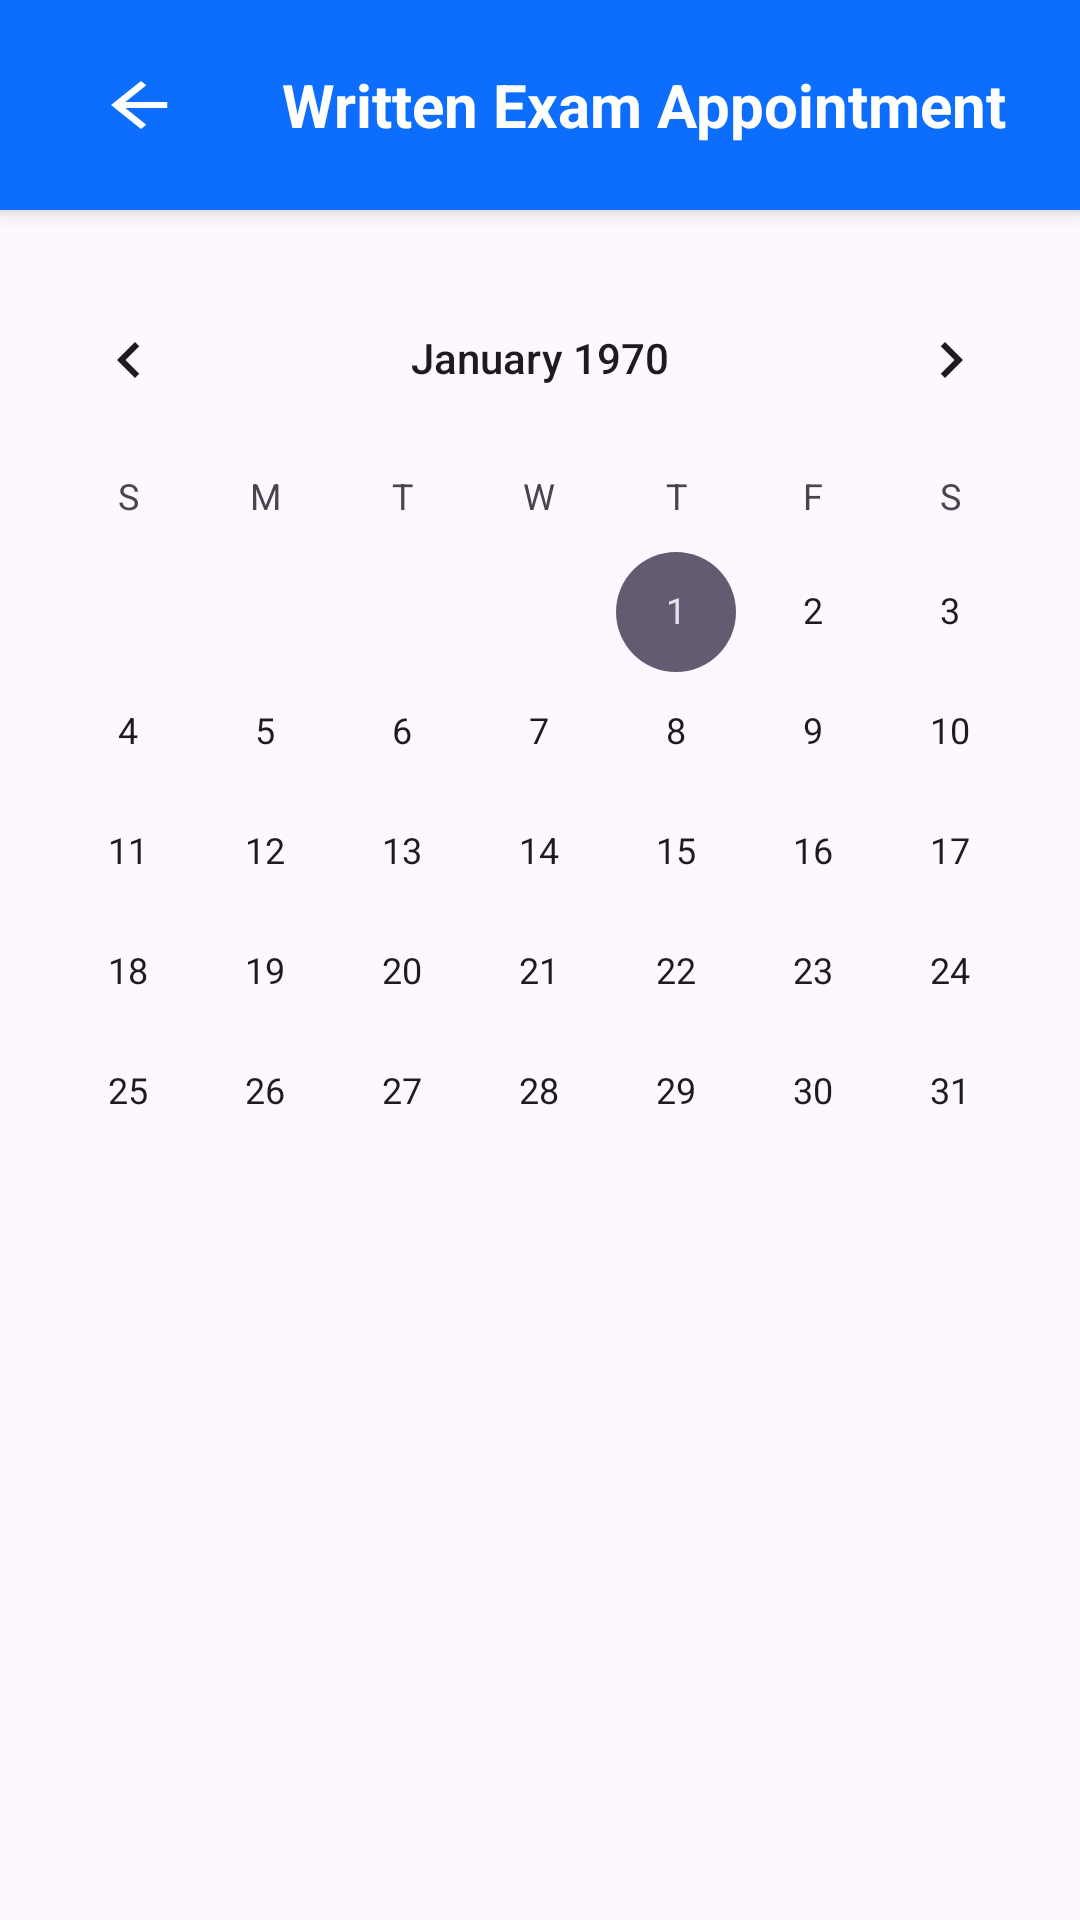

Icon click points for this 1080 × 1920 phone screenshot, format point (x, y):
Back: point (139, 105)
